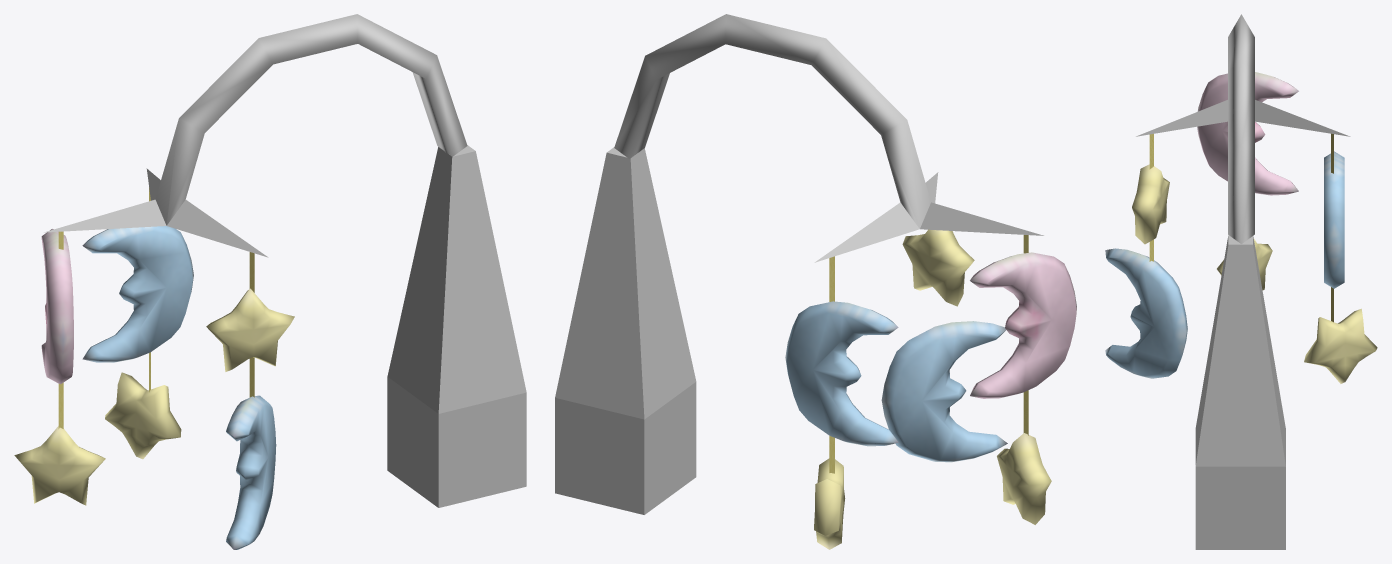
The model's file is Baby_Mobile.FBX.
The picture shows the model from 3 angles, left to right: view 1: azimuth 30°, elevation 25°; view 2: azimuth 150°, elevation 25°; view 3: azimuth 270°, elevation 25°; orthographic projection. The views are drawn at different scales.
Parts seen in each view (by area): view 1: Mobile; view 2: Mobile; view 3: Mobile.
Boxes of the visible parts, left/top/right/bottom form: Mobile: left=14, top=14, right=526, bottom=549; Mobile: left=555, top=14, right=1076, bottom=549; Mobile: left=1105, top=14, right=1377, bottom=549.
Size of the model in its own units: 62.39 by 61.74 by 35.3.
